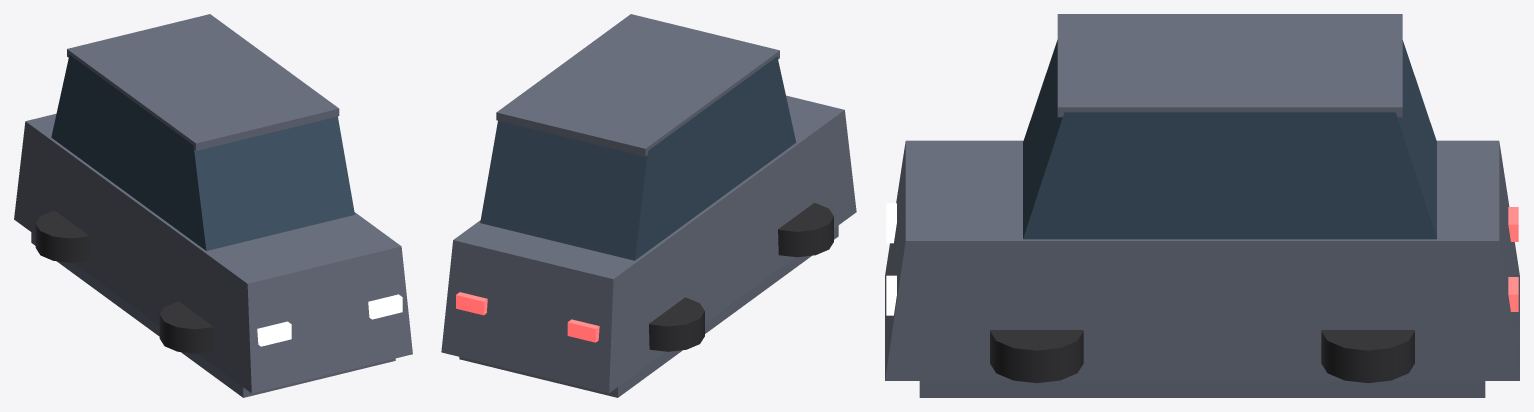
Rendered from car_van.glb.
The picture shows the model from 3 angles, left to right: view 1: azimuth 30°, elevation 25°; view 2: azimuth 150°, elevation 25°; view 3: azimuth 270°, elevation 25°; orthographic projection. The views are drawn at different scales.
Parts seen in each view (by area): view 1: body, cabin, roof, wheels, lights; view 2: body, cabin, roof, wheels, tail; view 3: body, cabin, roof, wheels, lights, tail.
Part boxes in pixels (<box>): body: <box>14,113,412,397</box>; cabin: <box>51,55,354,250</box>; roof: <box>67,14,339,150</box>; wheels: <box>35,210,213,353</box>; lights: <box>257,294,402,346</box>; body: <box>441,95,856,397</box>; cabin: <box>480,56,796,260</box>; roof: <box>496,14,779,156</box>; wheels: <box>649,203,833,351</box>; tail: <box>456,292,599,342</box>; body: <box>885,140,1519,397</box>; cabin: <box>1023,40,1436,239</box>; roof: <box>1057,14,1402,117</box>; wheels: <box>990,330,1414,383</box>; lights: <box>886,203,896,315</box>; tail: <box>1508,207,1518,311</box>.
Bounding box in the file's own units: 2.48 × 2.3 × 4.6.
